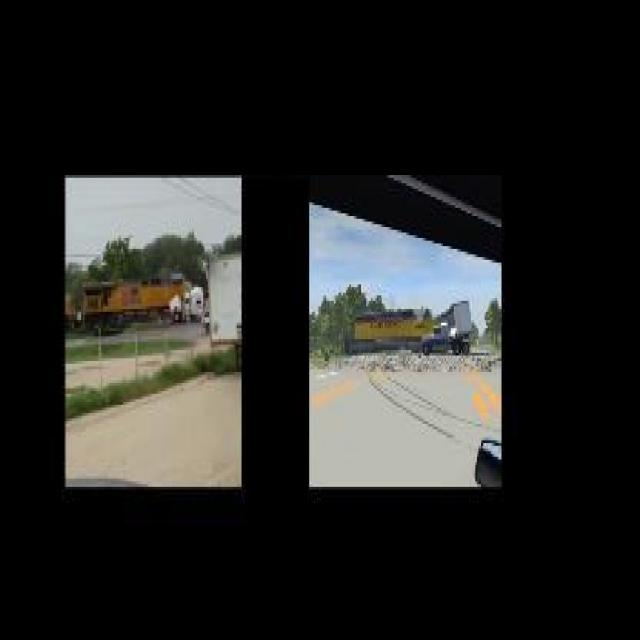accident: (343, 292, 475, 356), (72, 271, 205, 325)
